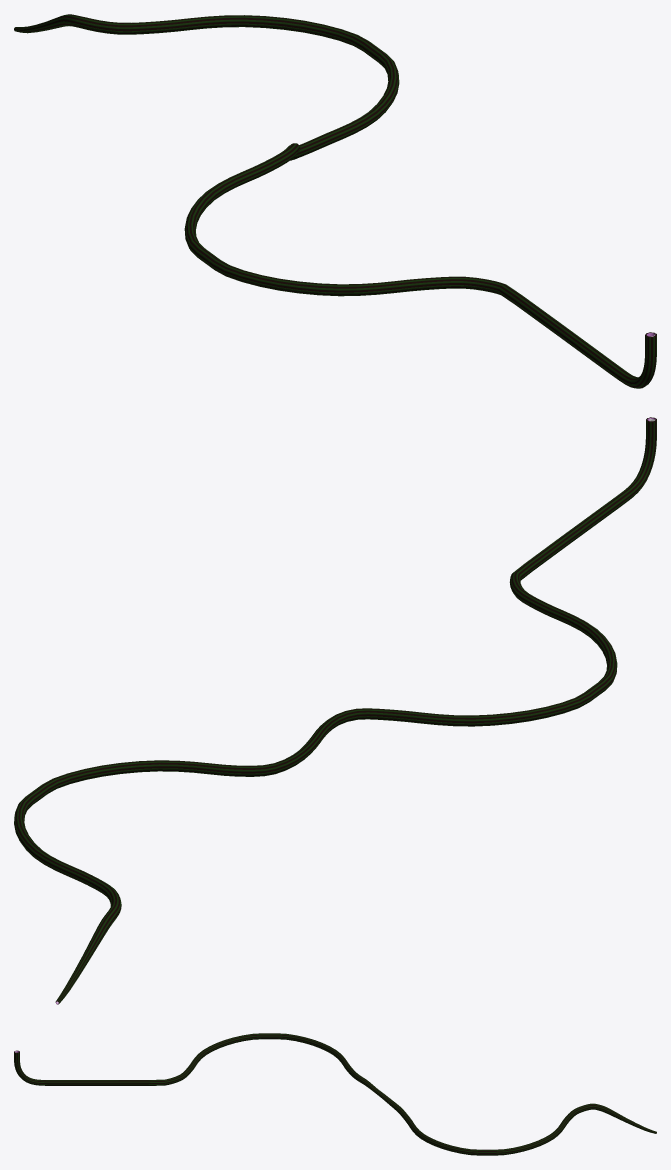
The model's file is SerpienteCuerpo.fbx.
The picture shows the model from 3 angles, top to bottom: view 1: azimuth 30°, elevation 25°; view 2: azimuth 150°, elevation 25°; view 3: azimuth 270°, elevation 25°; orthographic projection. The views are drawn at different scales.
Parts seen in each view (by area): view 1: Object002, Tube002; view 2: Object002, Tube002; view 3: Object002, Tube002.
Part boxes in pixels (x1,y1,x2,y2): Object002: (14,14,656,388); Tube002: (14,14,656,388); Object002: (14,419,656,1004); Tube002: (14,417,656,1004); Object002: (14,1033,656,1155); Tube002: (14,1033,656,1155).
Size of the model in its own units: 39004 by 15479 by 110259.
